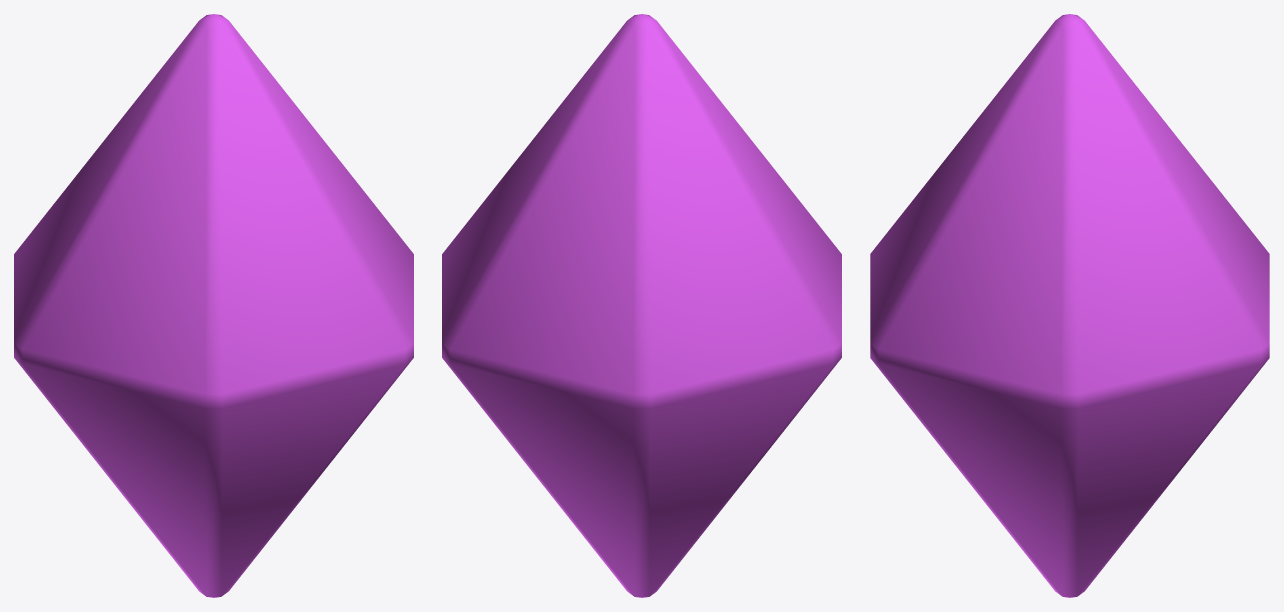
Rendered from Diamond.fbx.
3 renders of one model, left to right at view 1: azimuth 30°, elevation 25°; view 2: azimuth 150°, elevation 25°; view 3: azimuth 270°, elevation 25°, orthographic.
Parts seen in each view (by area): view 1: Diamond; view 2: Diamond; view 3: Diamond.
Part boxes in pixels (<box>): Diamond: <box>14,14,413,597</box>; Diamond: <box>442,14,841,597</box>; Diamond: <box>870,14,1269,597</box>.
Bounding box in the file's own units: 70.88 × 101 × 62.72.
